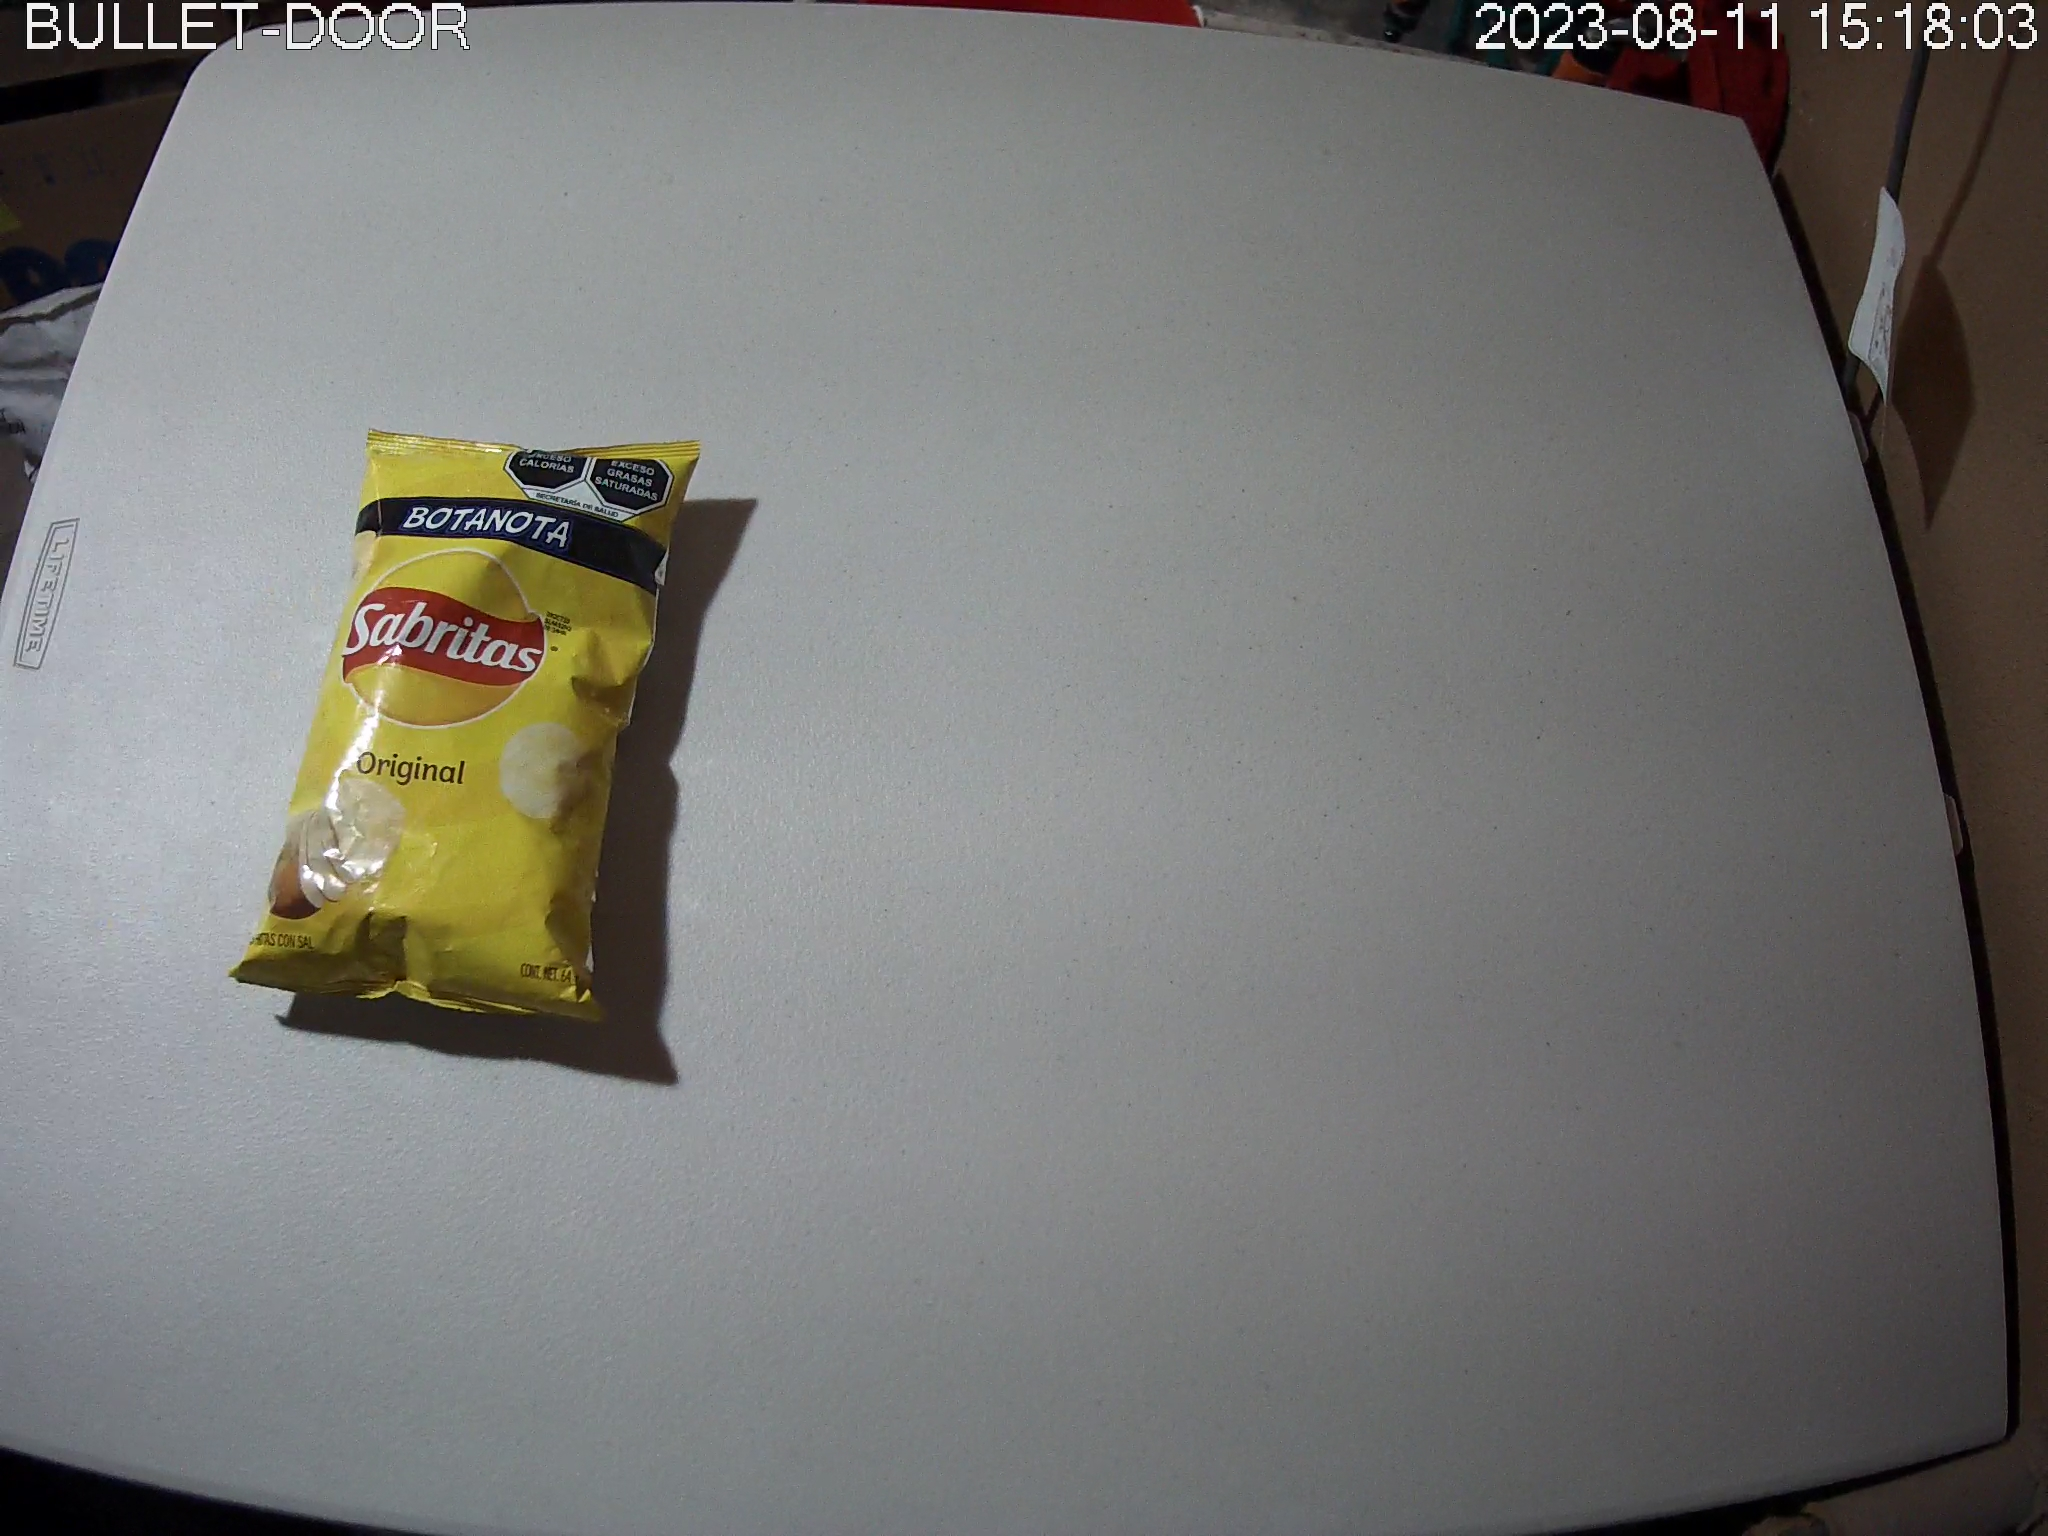Sabritas_64_F: (231, 423, 701, 1029)
